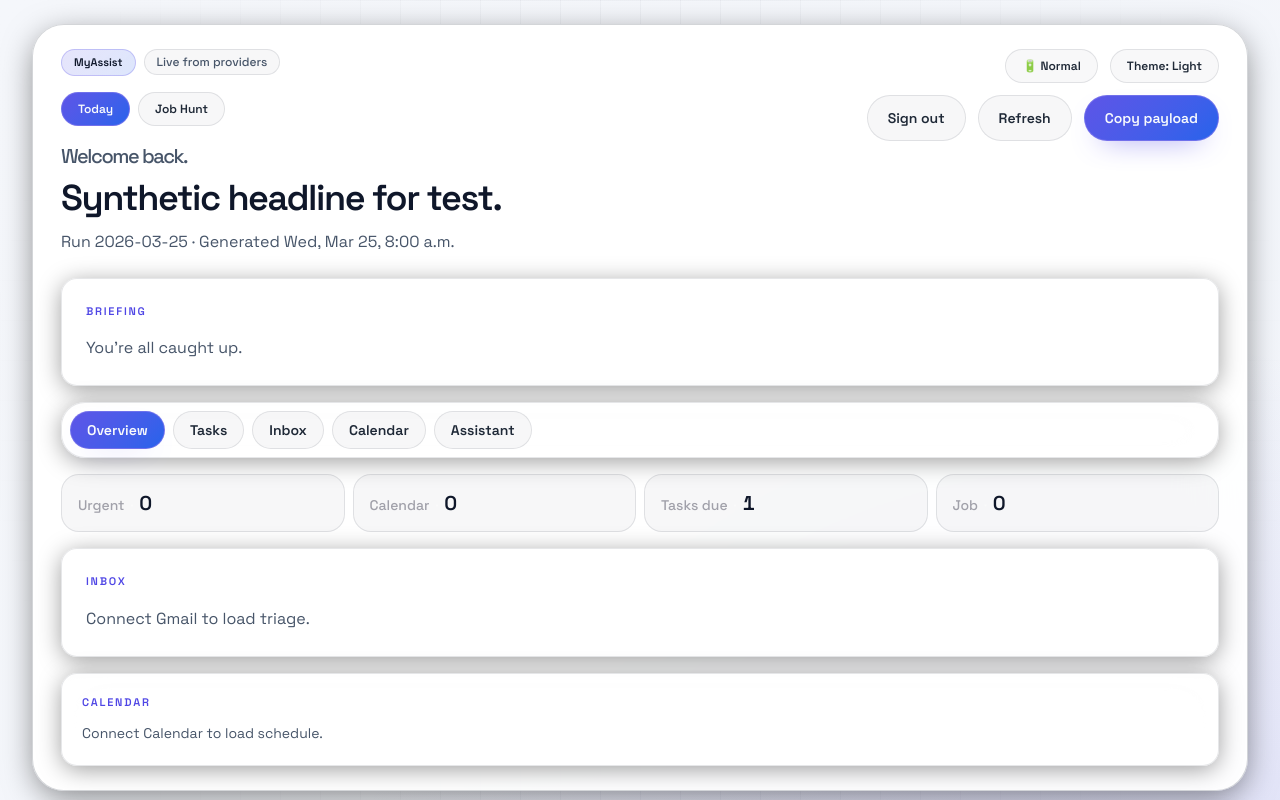
Dashboard › switches dashboard tabs and shows focused content
Click the button "Tasks" at (209, 430), box [173, 411, 244, 449]
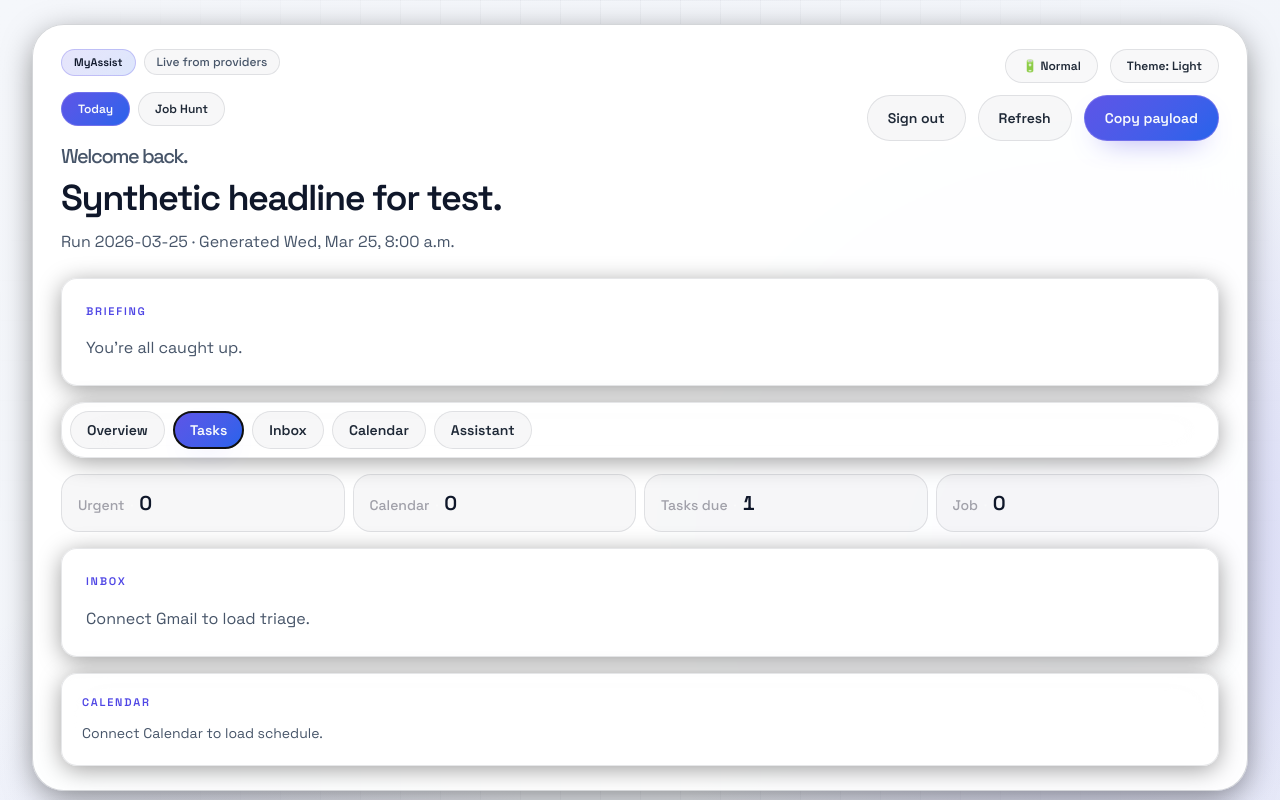
Click the button "Calendar" at (379, 430), box [332, 411, 426, 449]
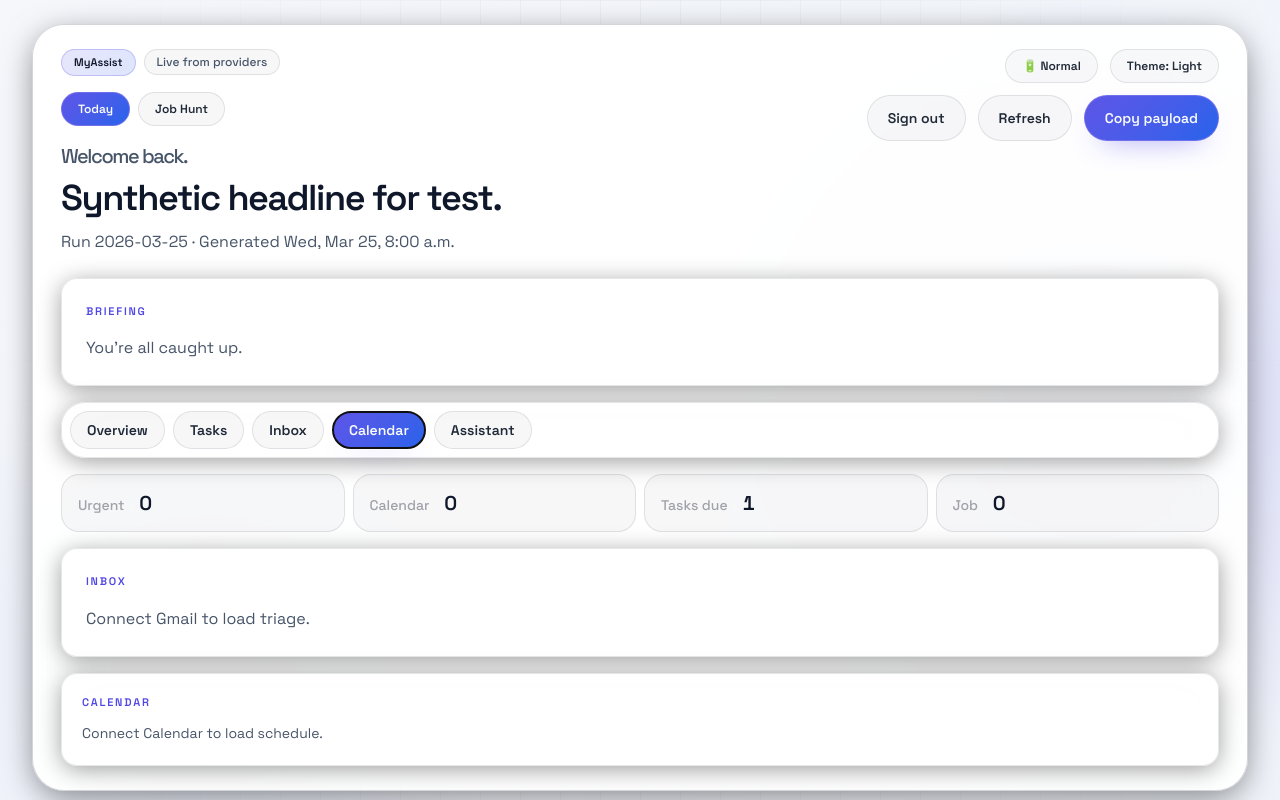
Click the button "Assistant" at (483, 430), box [434, 411, 532, 449]
(page scrolled)
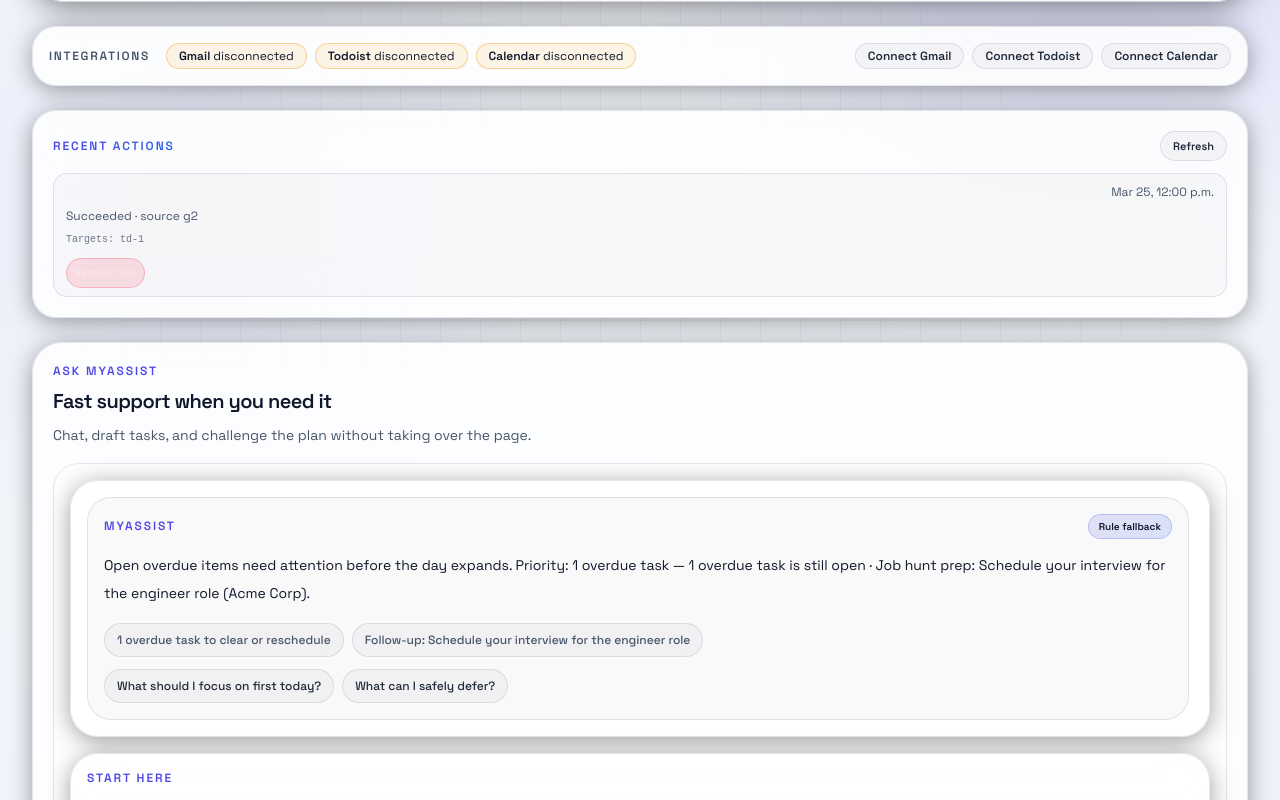
Check: the heading "Fast support when you need it" is shown, box [53, 388, 332, 414]
